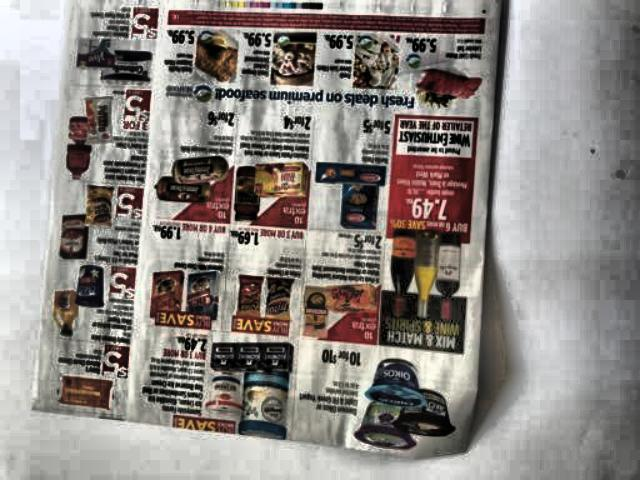Paper: (29, 0, 505, 453)
